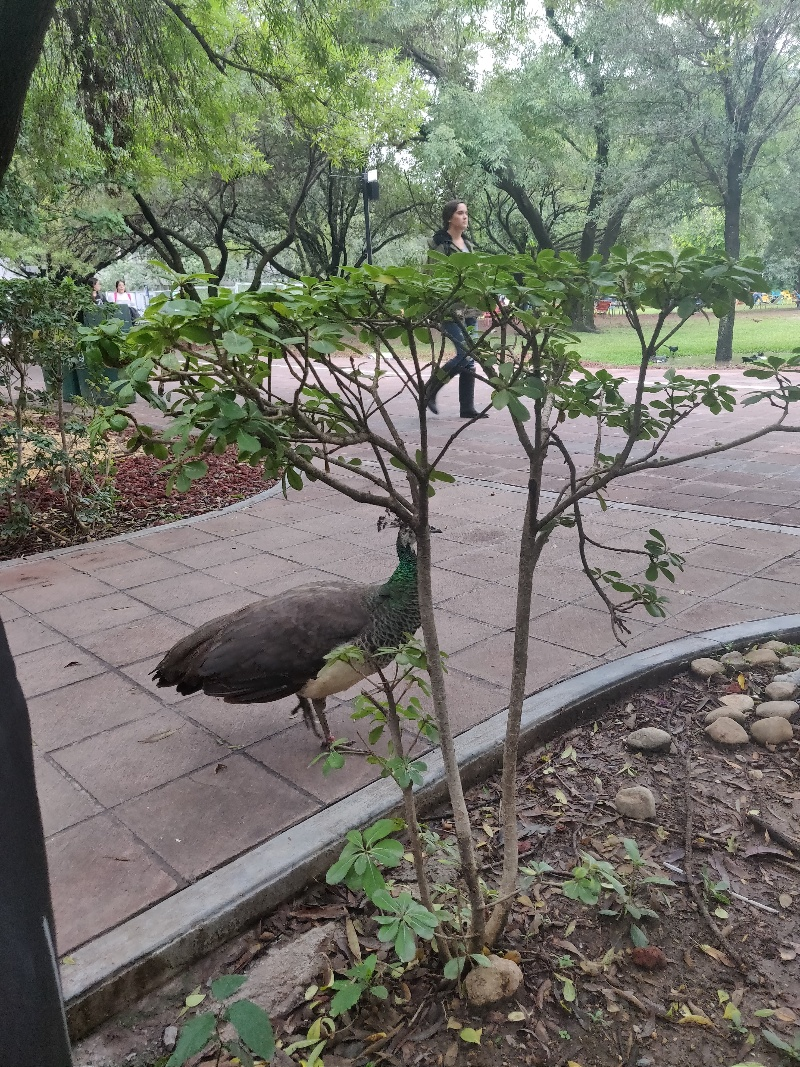pavoreal: (191, 513, 437, 701)
